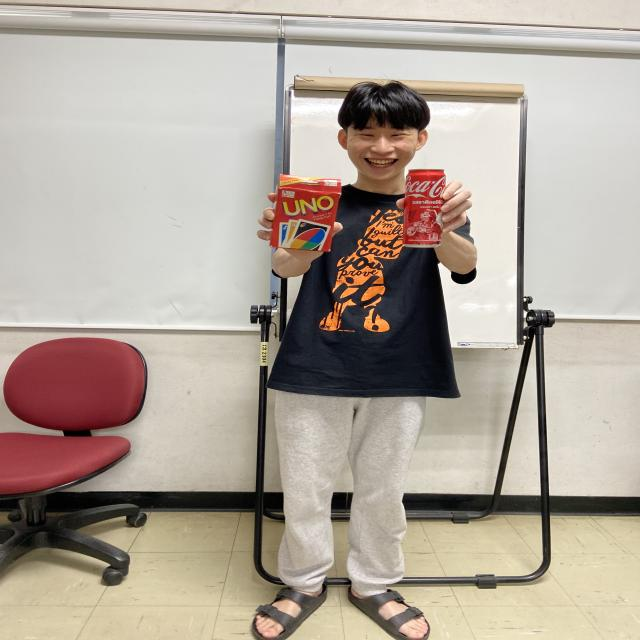can: (400, 168, 450, 249)
